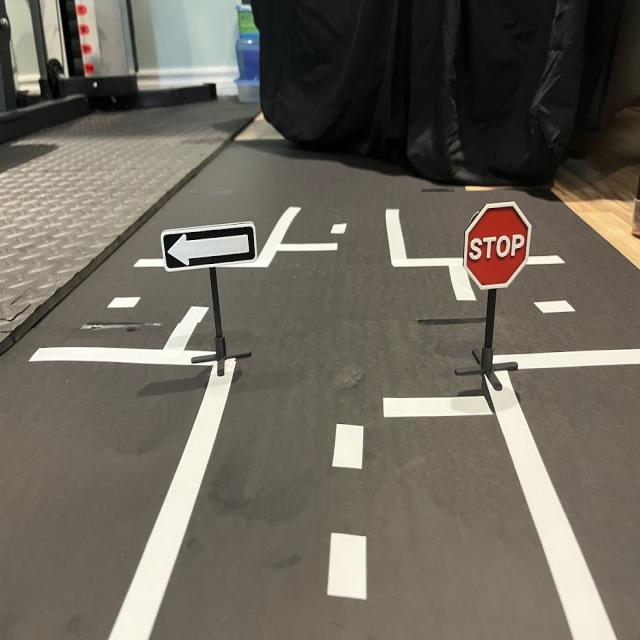sign_oneway_left: (162, 219, 260, 275)
sign_stop: (464, 205, 533, 289)
